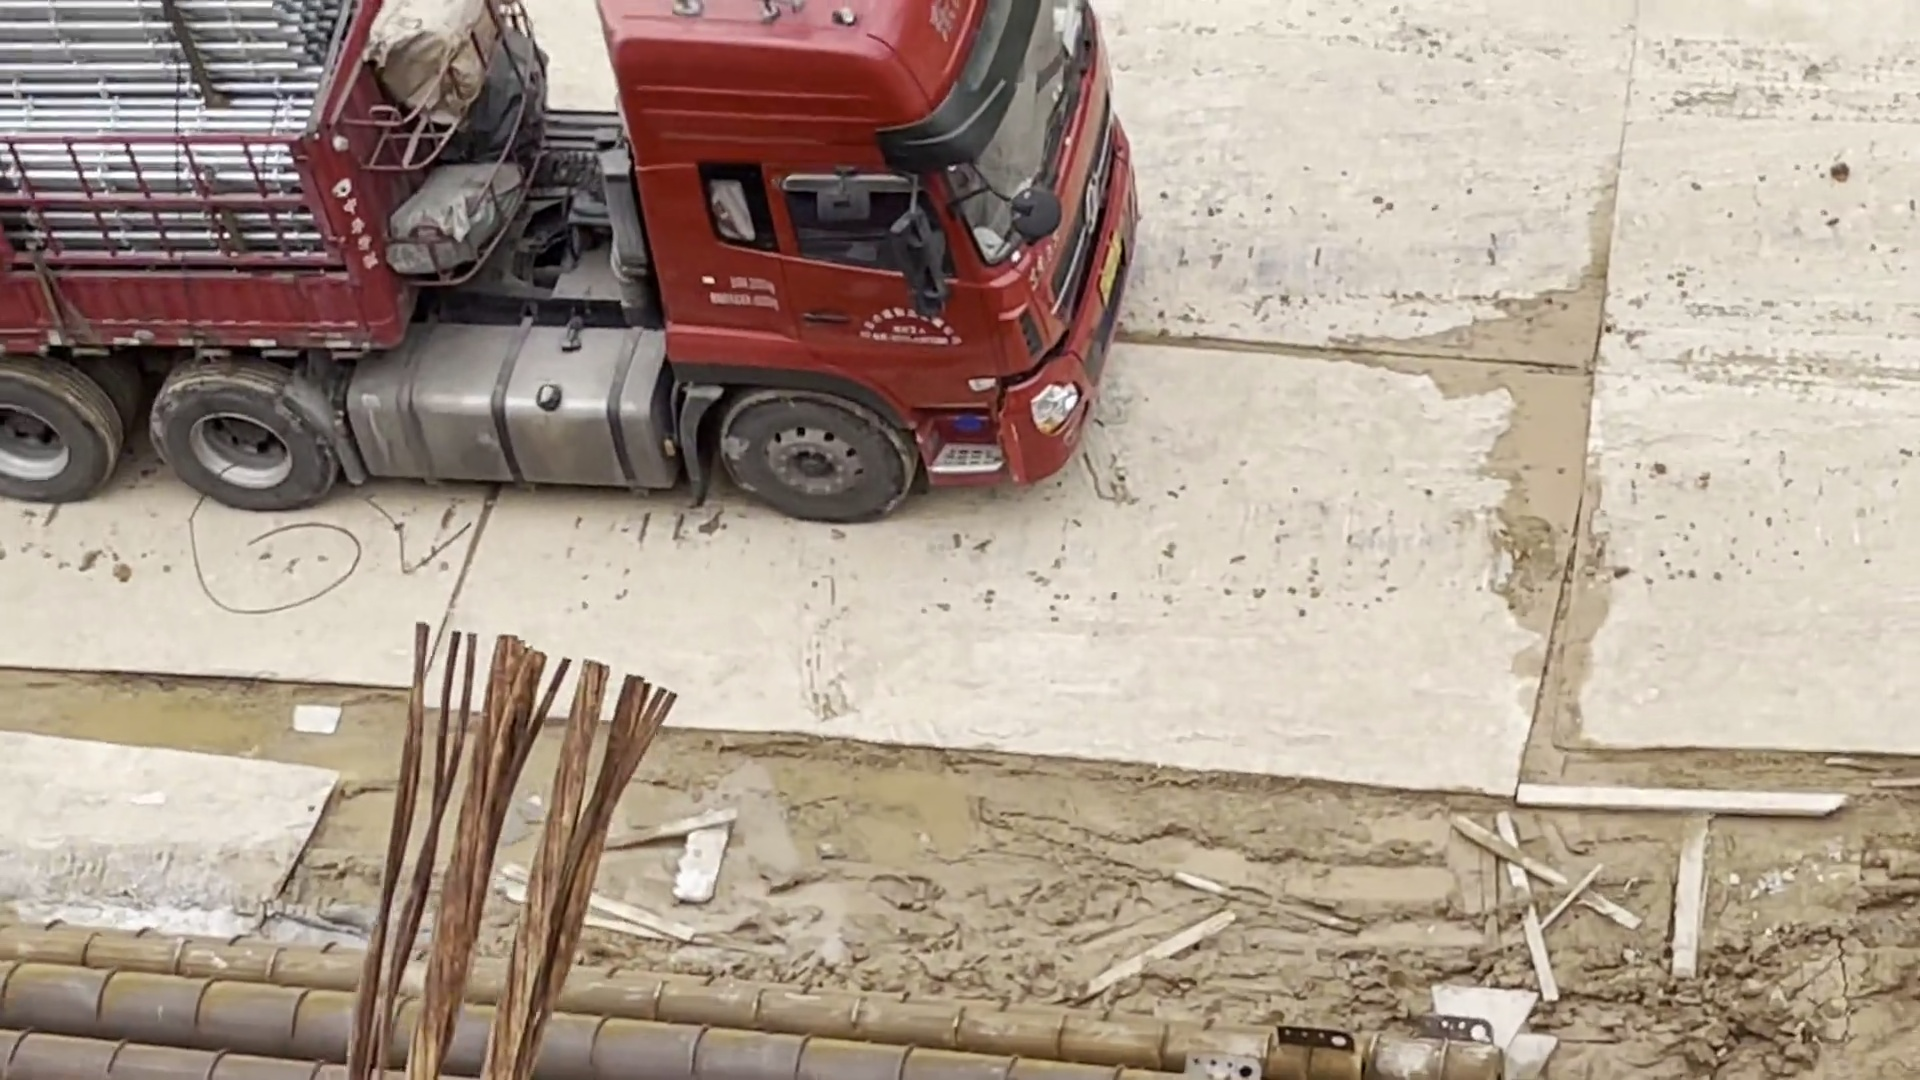scaffold: (3, 3, 340, 249)
